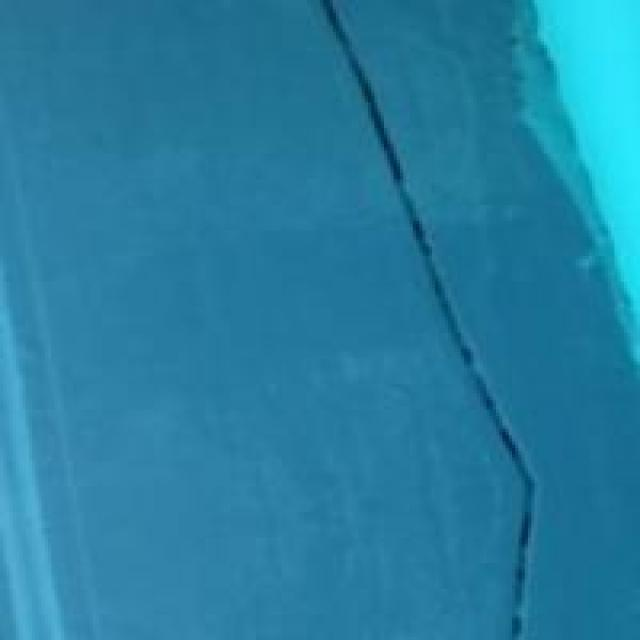Crack: (301, 0, 573, 640)
